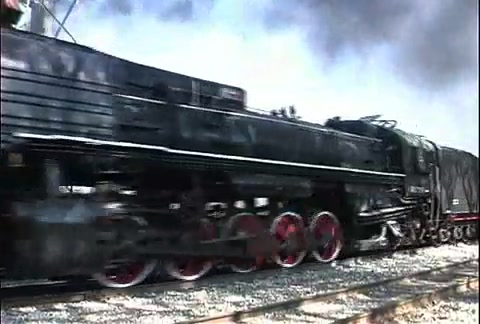train: (2, 3, 480, 299)
